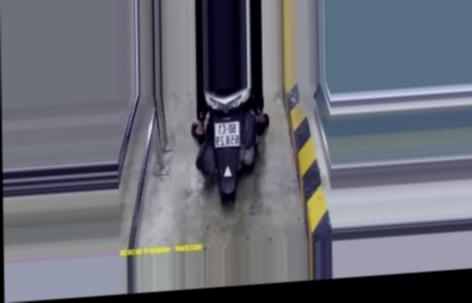License_Plate: (211, 119, 242, 153)
